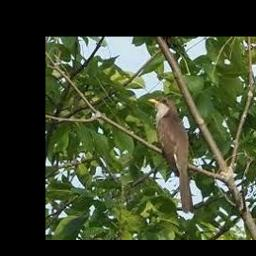Cuckoo: (147, 97, 194, 212)
